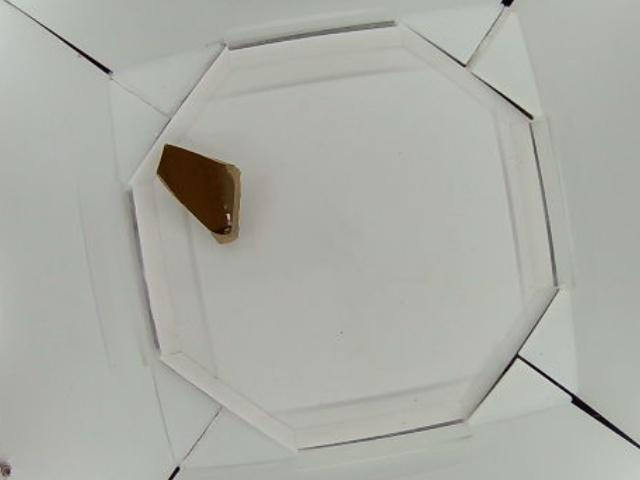China: (153, 142, 248, 247)
